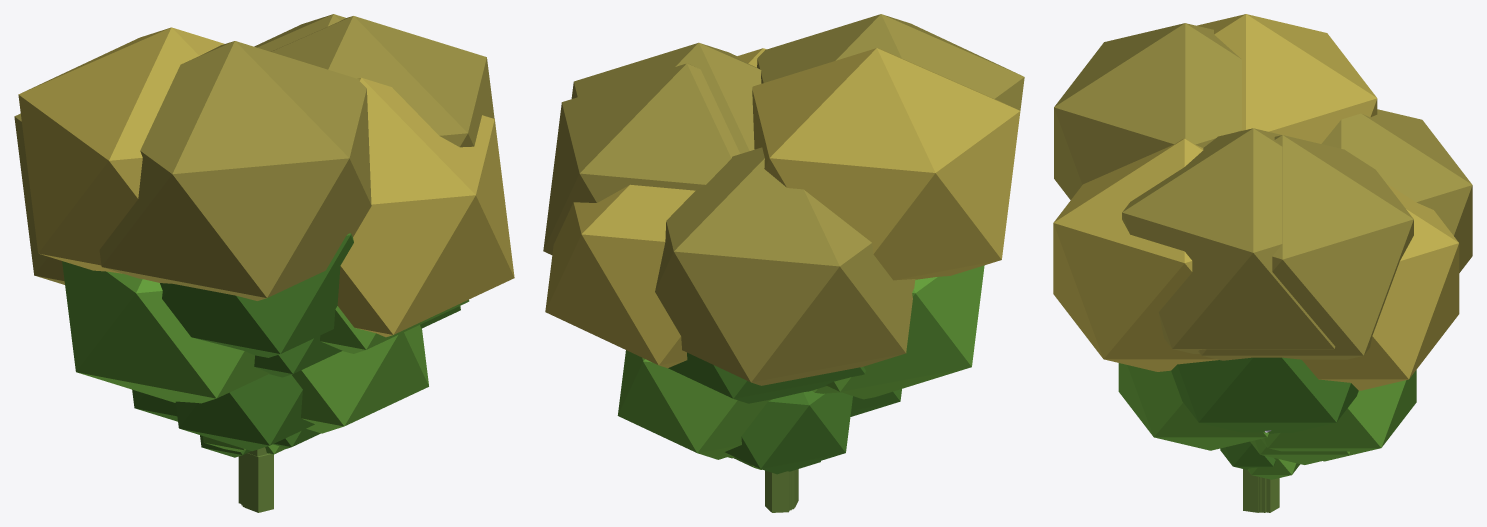
File: Crop_Veg_Potato.fbx
3 renders of one model, left to right at view 1: azimuth 30°, elevation 25°; view 2: azimuth 150°, elevation 25°; view 3: azimuth 270°, elevation 25°, orthographic. The views are drawn at different scales.
Parts seen in each view (by area): view 1: Crop_Veg_Potato__S4, Crop_Veg_Potato__S3, Crop_Veg_Potato__S5, Crop_Veg_Potato__S2, Crop_Veg_Potato__S1; view 2: Crop_Veg_Potato__S4, Crop_Veg_Potato__S3, Crop_Veg_Potato__S5, Crop_Veg_Potato__S2; view 3: Crop_Veg_Potato__S4, Crop_Veg_Potato__S5, Crop_Veg_Potato__S3, Crop_Veg_Potato__S1, Crop_Veg_Potato__S2.
Boxes of the visible parts, box(x1,y1,x2,y2) form: Crop_Veg_Potato__S4: box(14, 14, 514, 507); Crop_Veg_Potato__S3: box(62, 233, 469, 506); Crop_Veg_Potato__S5: box(238, 325, 428, 503); Crop_Veg_Potato__S2: box(132, 374, 314, 505); Crop_Veg_Potato__S1: box(200, 429, 320, 512); Crop_Veg_Potato__S4: box(543, 14, 1024, 507); Crop_Veg_Potato__S3: box(668, 265, 984, 509); Crop_Veg_Potato__S5: box(617, 350, 789, 512); Crop_Veg_Potato__S2: box(725, 386, 901, 510); Crop_Veg_Potato__S4: box(1053, 14, 1472, 512); Crop_Veg_Potato__S5: box(1118, 363, 1416, 512); Crop_Veg_Potato__S3: box(1171, 357, 1358, 512); Crop_Veg_Potato__S1: box(1220, 441, 1300, 512); Crop_Veg_Potato__S2: box(1250, 439, 1350, 512).
Bounding box in the file's own units: 0.17 × 0.1827 × 0.1521.
